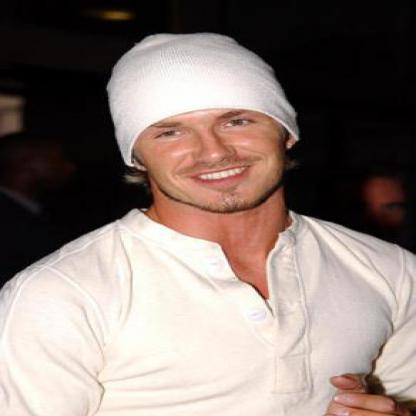face: (127, 50, 288, 217)
